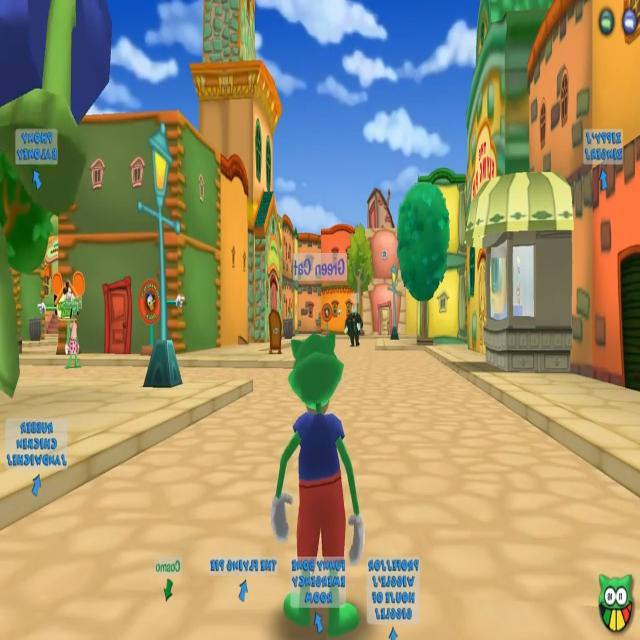tightwad: (344, 291, 366, 347)
